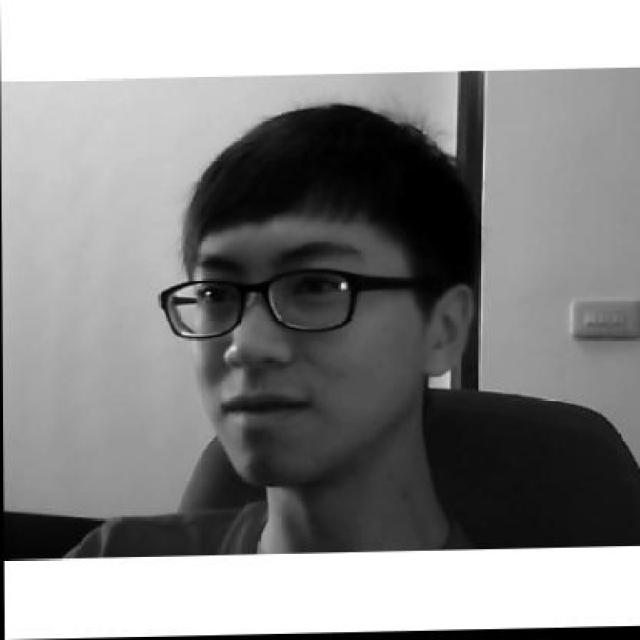attentif: (156, 100, 476, 489)
